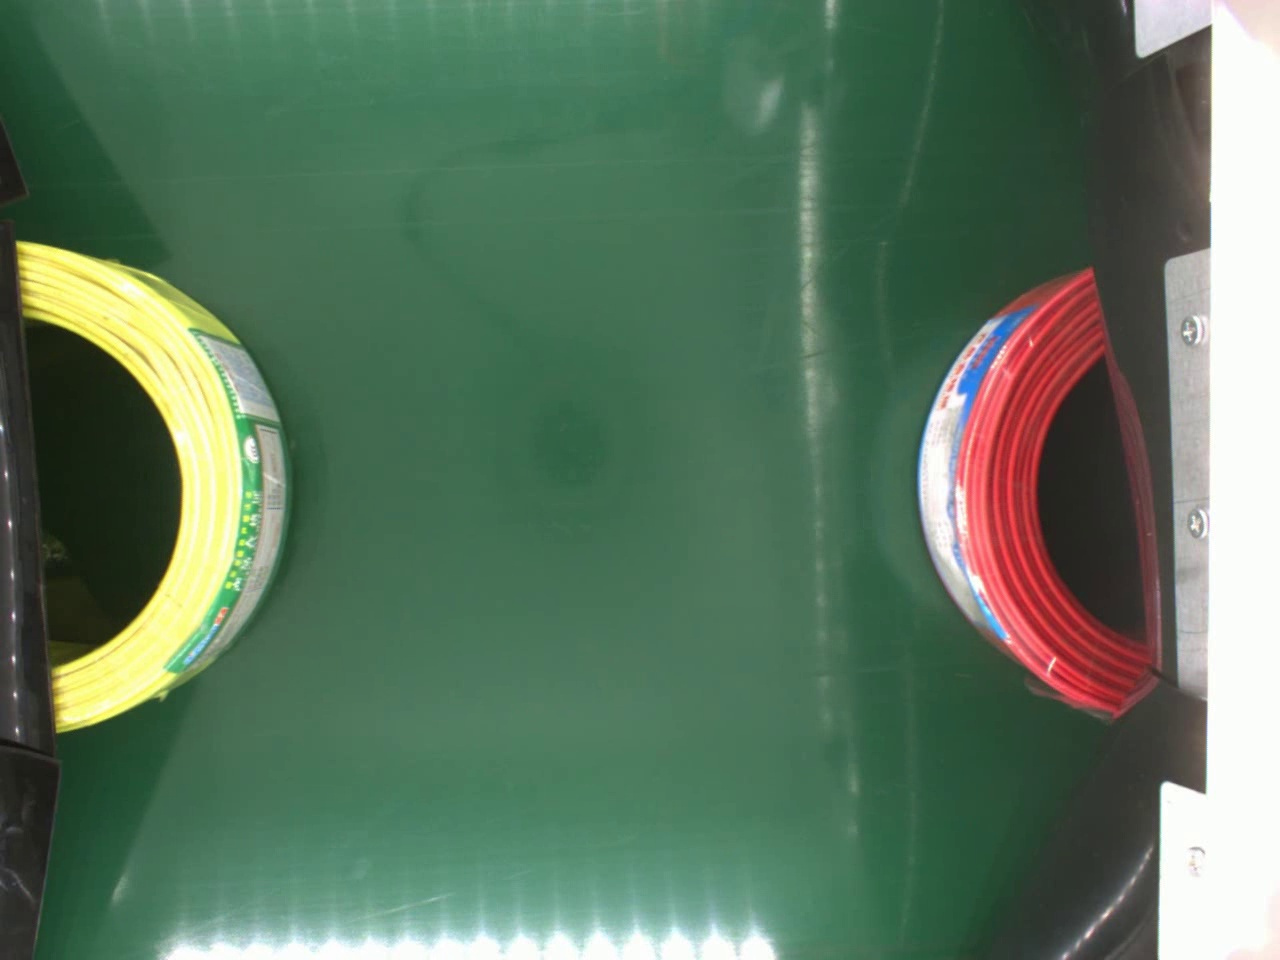red: (914, 266, 1154, 720)
yellow: (17, 234, 296, 739)
